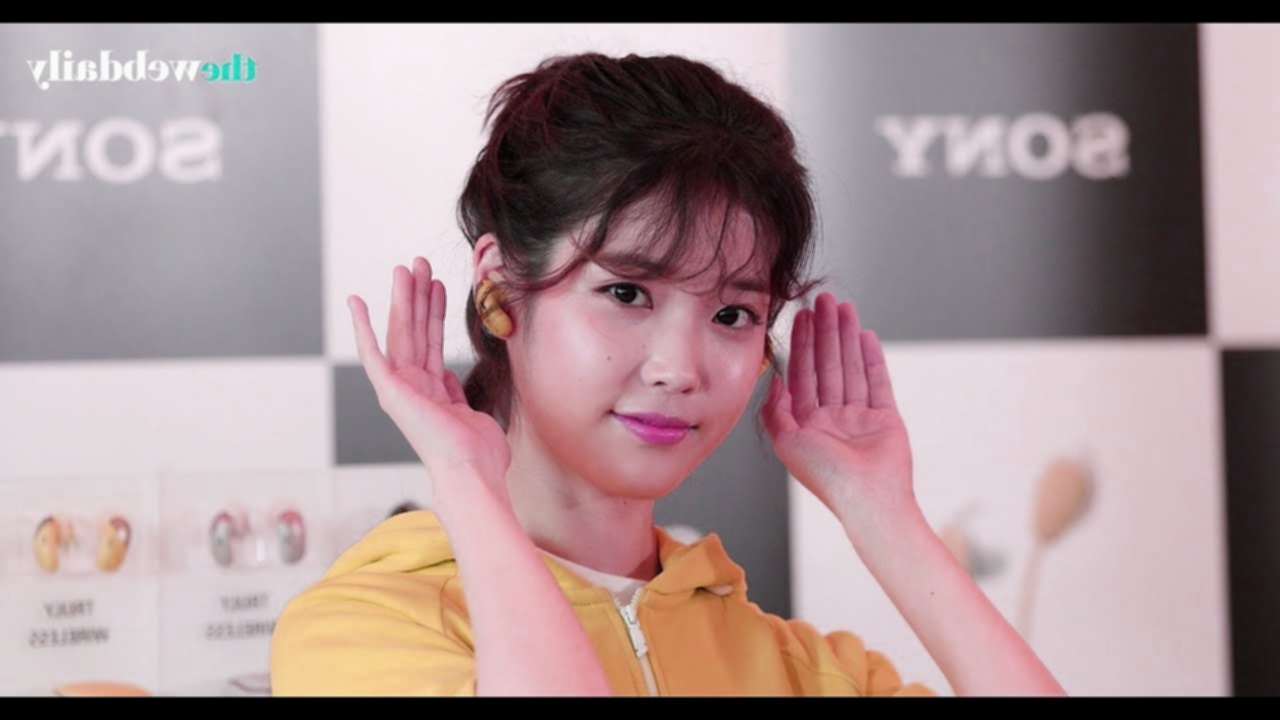earphone: (471, 233, 520, 339)
